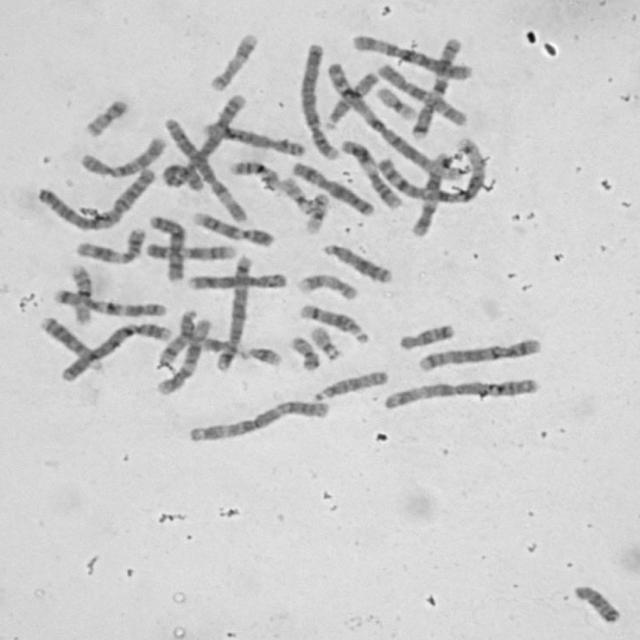A1: (324, 58, 464, 180), (375, 136, 488, 205)
A2: (160, 89, 250, 191), (33, 163, 156, 233)
A3: (184, 395, 332, 444), (379, 373, 544, 412)
B4: (56, 317, 173, 384), (295, 37, 342, 162)
B5: (212, 250, 255, 372), (413, 333, 543, 373)
C10: (373, 60, 470, 128), (75, 132, 171, 180)
C11: (336, 135, 405, 211), (73, 223, 148, 265)
C12: (154, 315, 213, 397), (408, 148, 453, 238)
C6: (160, 113, 250, 223), (348, 29, 475, 81)
C7: (408, 33, 463, 140), (50, 284, 172, 319)
C8: (198, 118, 309, 158), (183, 268, 291, 292)
C9: (189, 207, 277, 248), (142, 238, 239, 262)
D13: (36, 312, 106, 372), (318, 239, 395, 285)
D14: (296, 300, 372, 345), (154, 304, 200, 368)
D15: (320, 68, 380, 131), (309, 366, 391, 402)
E16: (66, 260, 95, 325), (225, 156, 281, 189)
E17: (205, 28, 261, 92), (293, 269, 360, 302)
E18: (569, 580, 624, 625), (395, 320, 457, 351)
F19: (371, 82, 419, 122), (300, 189, 330, 235)
F20: (80, 94, 132, 138), (286, 332, 322, 372)
G21: (242, 341, 284, 368), (195, 336, 235, 358)
G22: (276, 172, 316, 215), (306, 321, 344, 360)
X: (288, 158, 378, 217), (145, 210, 191, 284)
